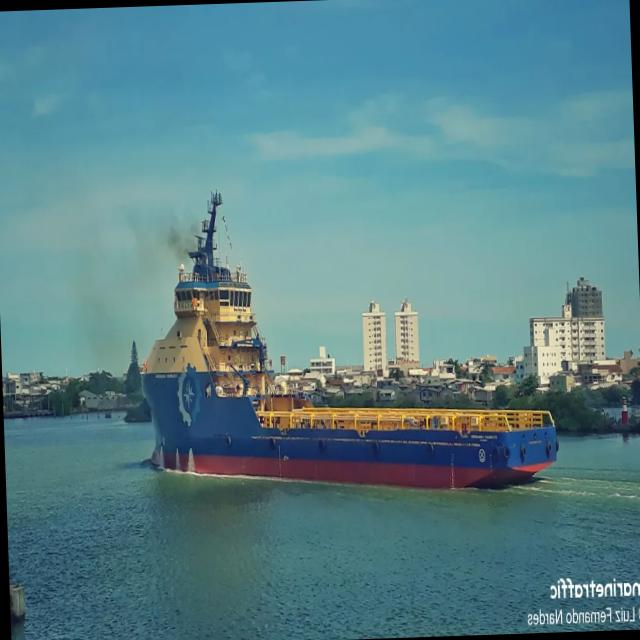Offshore: (141, 193, 559, 487)
